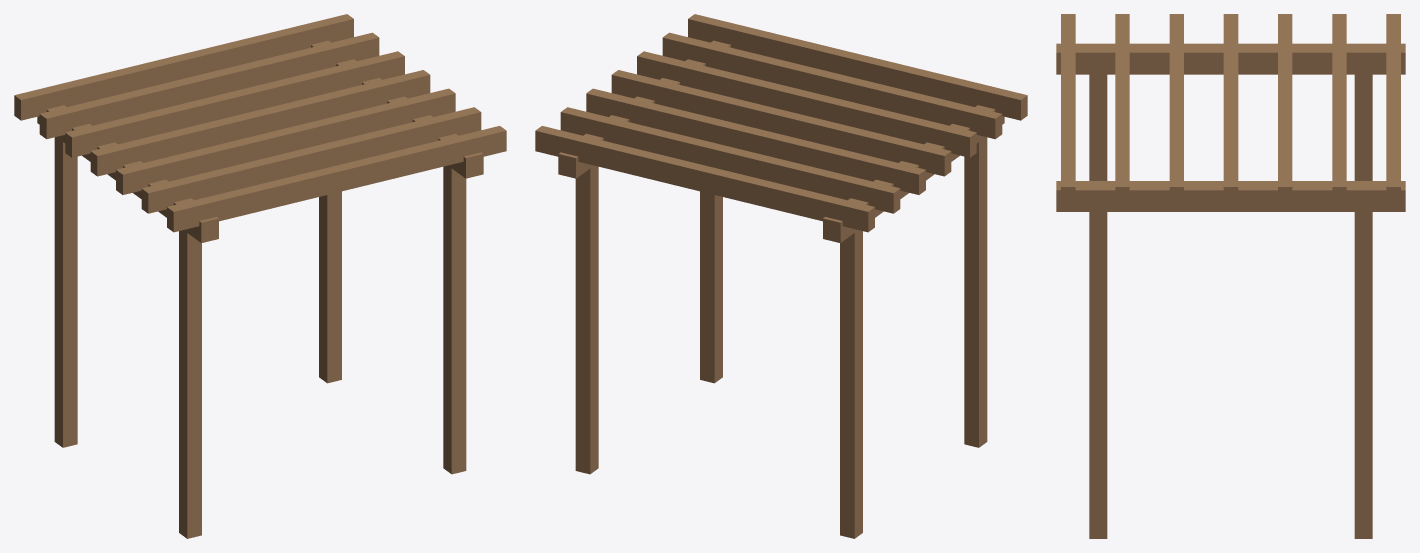
Rendered from pergola.glb.
3 views of the same model, side by side, from view 1: azimuth 30°, elevation 25°; view 2: azimuth 150°, elevation 25°; view 3: azimuth 270°, elevation 25° (orthographic). The views are drawn at different scales.
Visible parts, largest first — view 1: Pergola slat, Pergola slat.005, Pergola slat.001, Pergola slat.003, Pergola slat.004, Pergola slat.006, Pergola slat.002, Pergola post.001, Pergola rear post, Pergola post, Pergola rear post.001, Pergola runner (+1 smaller); view 2: Pergola slat.006, Pergola slat.001, Pergola slat.003, Pergola slat.005, Pergola slat, Pergola slat.002, Pergola slat.004, Pergola rear post.001, Pergola post, Pergola rear post, Pergola post.001, Pergola runner (+1 smaller); view 3: Pergola runner.001, Pergola runner, Pergola post.001, Pergola rear post.001, Pergola slat.003, Pergola slat, Pergola slat.001, Pergola slat.002, Pergola slat.004, Pergola slat.005, Pergola slat.006, Pergola post (+1 smaller).
Part boxes in pixels (x1,y1,x2,y2): Pergola slat: (167, 126, 506, 232); Pergola slat.005: (39, 32, 379, 139); Pergola slat.001: (141, 107, 481, 213); Pergola slat.003: (90, 70, 430, 176); Pergola slat.004: (65, 51, 404, 157); Pergola slat.006: (14, 14, 353, 120); Pergola slat.002: (116, 88, 455, 194); Pergola post.001: (443, 165, 466, 474); Pergola rear post: (54, 137, 77, 447); Pergola post: (179, 230, 201, 538); Pergola rear post.001: (319, 191, 341, 383); Pergola runner: (37, 105, 218, 243); Pergola slat.006: (535, 126, 874, 232); Pergola slat.001: (662, 32, 1002, 139); Pergola slat.003: (611, 70, 951, 176); Pergola slat.005: (560, 107, 900, 213); Pergola slat: (688, 14, 1027, 120); Pergola slat.002: (637, 51, 976, 157); Pergola slat.004: (586, 88, 925, 194); Pergola rear post.001: (575, 165, 598, 474); Pergola post: (964, 137, 987, 447); Pergola rear post: (840, 230, 862, 538); Pergola post.001: (700, 191, 722, 383); Pergola runner: (823, 105, 1004, 243); Pergola runner.001: (1056, 181, 1405, 211); Pergola runner: (1056, 43, 1405, 74); Pergola post.001: (1089, 212, 1107, 538); Pergola rear post.001: (1354, 212, 1372, 538); Pergola slat.003: (1223, 14, 1238, 208); Pergola slat: (1061, 14, 1075, 208); Pergola slat.001: (1115, 14, 1129, 208); Pergola slat.002: (1169, 14, 1183, 208); Pergola slat.004: (1278, 14, 1292, 208); Pergola slat.005: (1332, 14, 1346, 208); Pergola slat.006: (1386, 14, 1400, 208); Pergola post: (1089, 74, 1107, 180).
Size of the model in its own units: 3.4 by 3.35 by 2.9.
